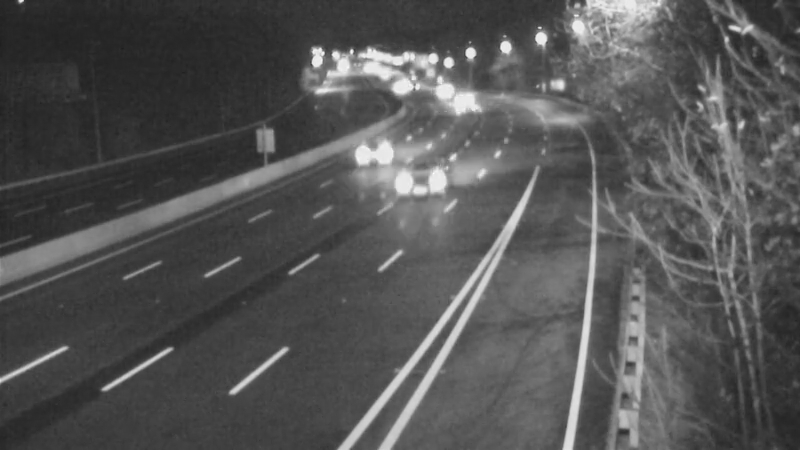vehicle: (332, 115, 412, 195), (396, 137, 476, 217), (373, 61, 423, 111), (415, 68, 465, 118), (432, 73, 482, 123), (445, 88, 495, 138)
